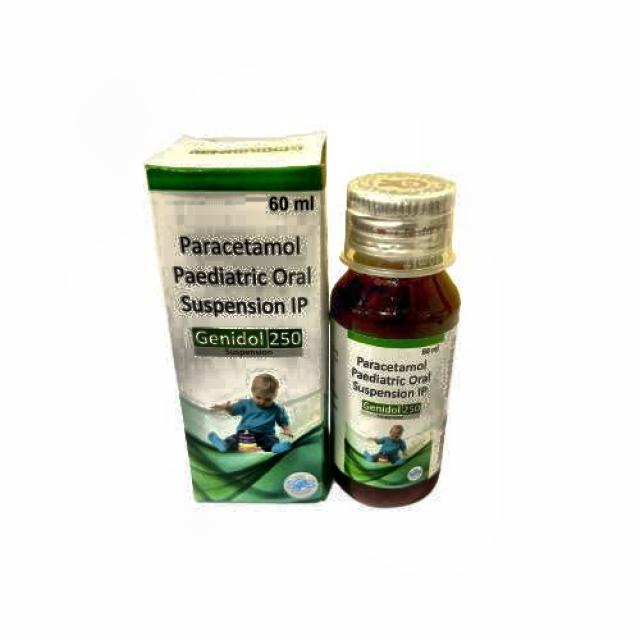Paracetamol: (161, 226, 322, 366)
